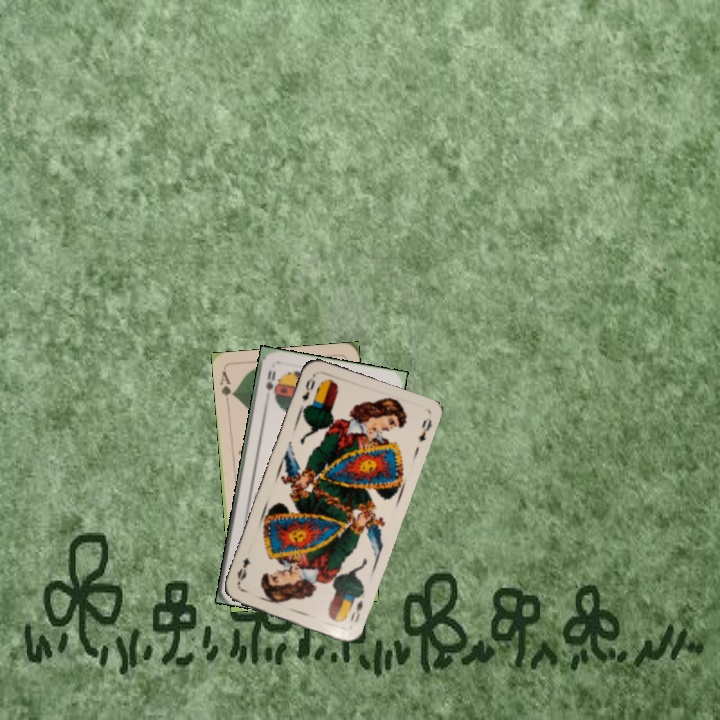EO: (298, 371, 318, 405), (346, 596, 365, 625)
GA: (216, 367, 237, 407)
SO: (262, 366, 278, 396)
